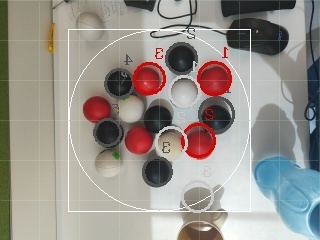Pelota blanca: (179, 179, 215, 210), (176, 219, 225, 240), (155, 125, 185, 159), (169, 77, 199, 108), (155, 0, 199, 21), (94, 147, 123, 178), (118, 93, 147, 123)
Pelota negra: (198, 97, 235, 135), (166, 41, 199, 75), (141, 155, 173, 189), (144, 97, 175, 132), (104, 67, 133, 99), (94, 119, 125, 148), (124, 0, 157, 12)
Pelota roja: (179, 121, 217, 160), (196, 59, 233, 96), (131, 61, 167, 96), (124, 125, 155, 156), (81, 95, 113, 123), (154, 47, 165, 60)
